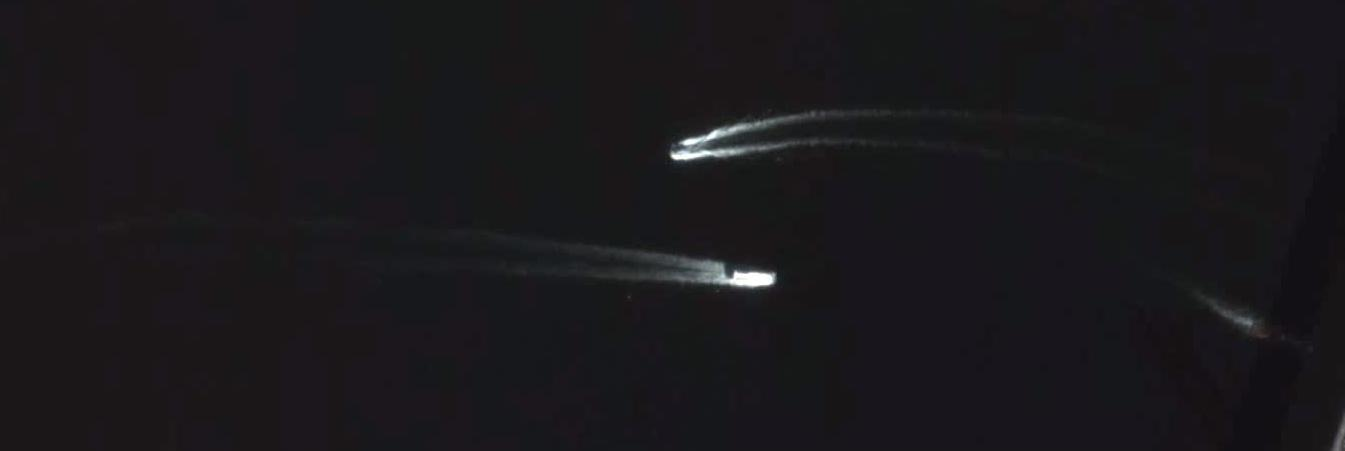person: (1277, 331, 1315, 354), (734, 270, 774, 286), (669, 142, 692, 153)
